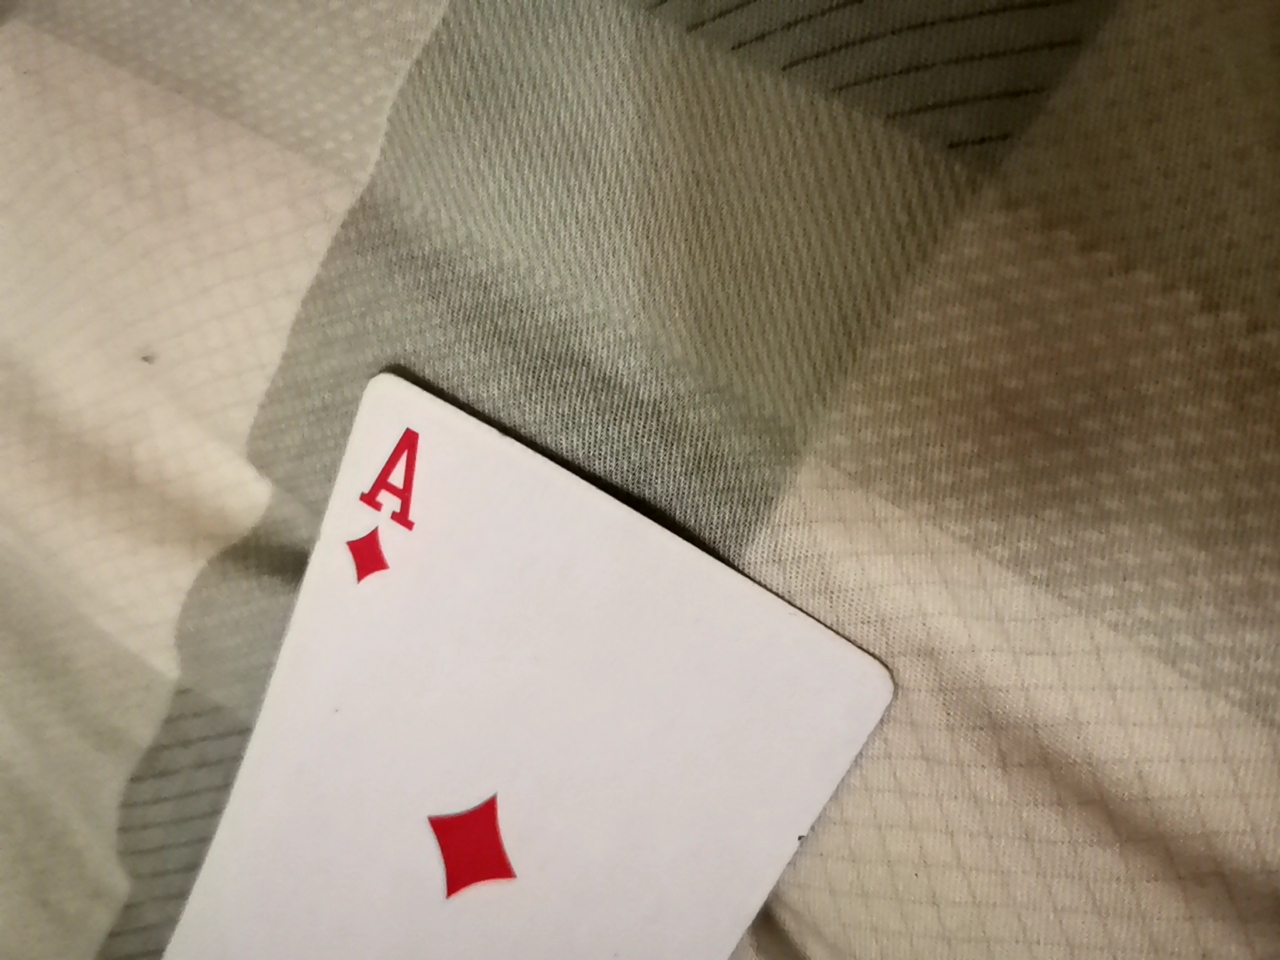fk a: (83, 367, 893, 960)
